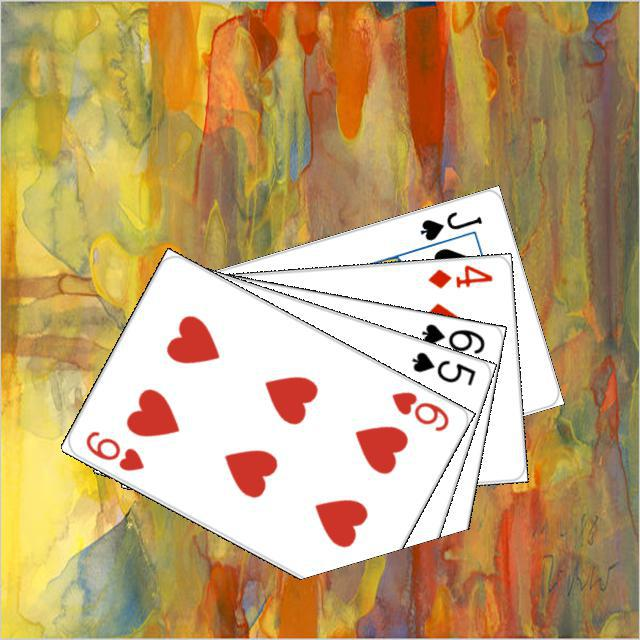4d: (423, 261, 494, 290)
5s: (406, 347, 478, 388)
6h: (80, 425, 146, 473), (386, 386, 451, 434)
6s: (416, 319, 487, 356)
Js: (415, 206, 484, 243)
